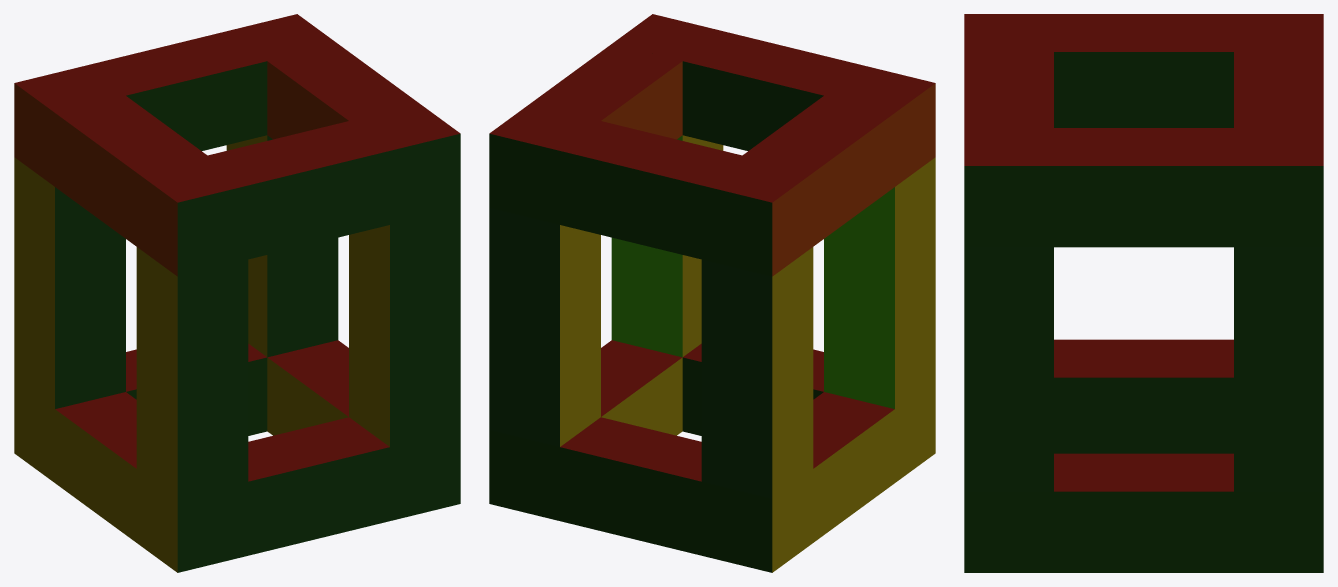
File: block_42.fbx
The picture shows the model from 3 angles, left to right: view 1: azimuth 30°, elevation 25°; view 2: azimuth 150°, elevation 25°; view 3: azimuth 270°, elevation 25°; orthographic projection. The views are drawn at different scales.
Visible parts, largest first — view 1: Box; view 2: Box; view 3: Box.
Part boxes in pixels (left/top/right/bottom): Box: left=14, top=14, right=460, bottom=572; Box: left=489, top=14, right=935, bottom=572; Box: left=964, top=14, right=1323, bottom=572.
Bounding box in the file's own units: 400 × 500 × 400.
Materials: 1 (1 with a texture image).
